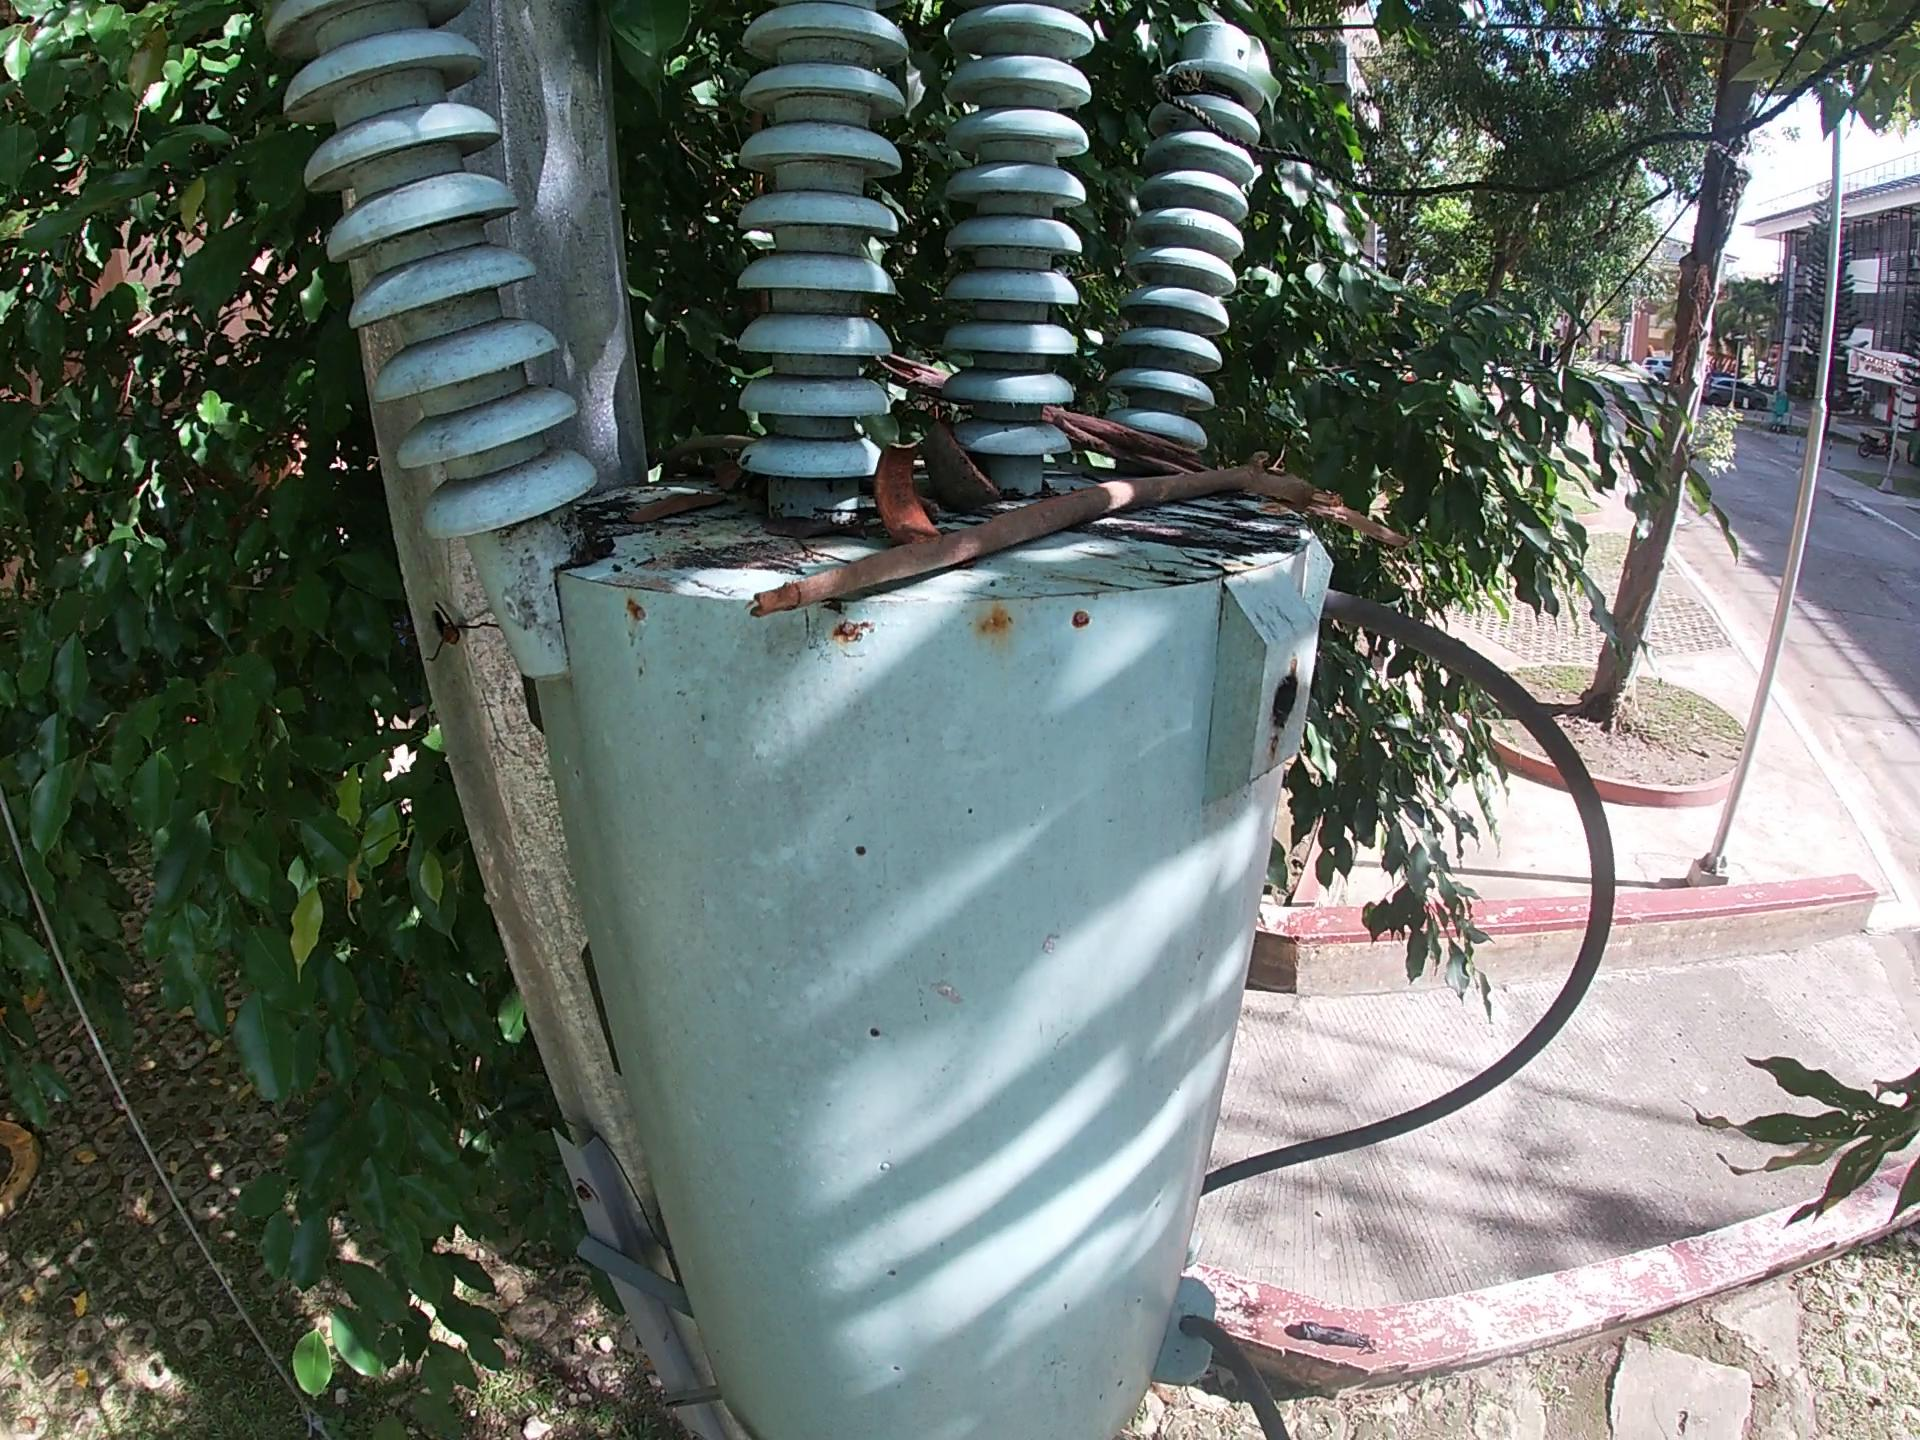leaf: (620, 486, 729, 529)
mahogany fruit: (869, 433, 939, 551), (921, 417, 1005, 513)
tree branch: (745, 448, 1417, 628), (880, 346, 1231, 478), (649, 428, 763, 483)
